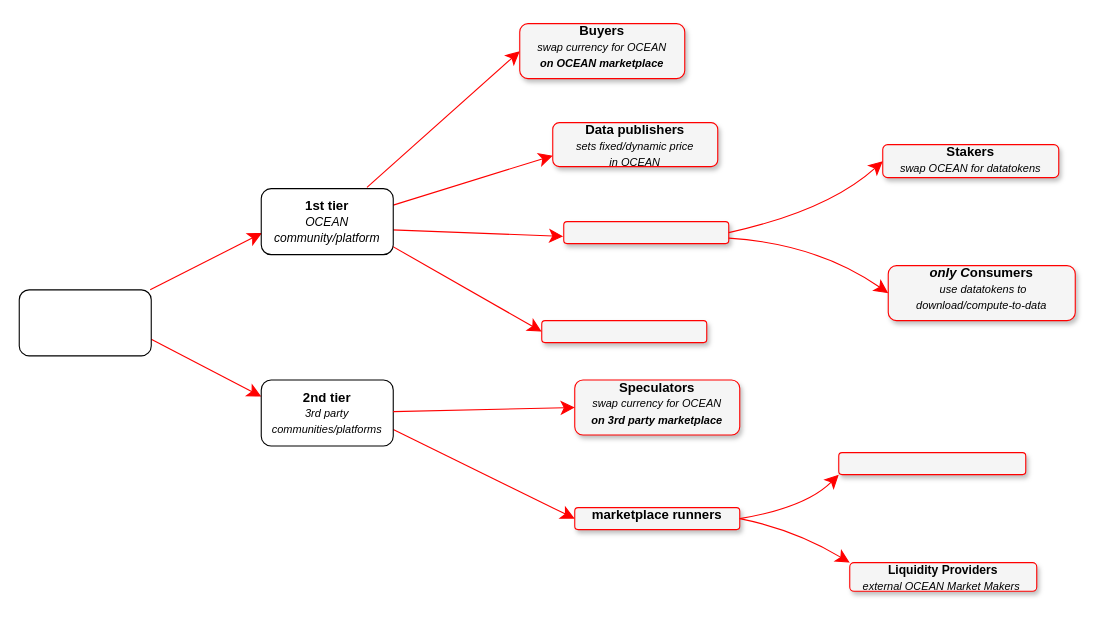
Some shapes in this 1101 by 618 pixel diagram are drawn without their labels. The shapes that lost their labels are listed below. From the top down, each one's centre as x and y in pixels, then its label:
At (646,233): "Data consumers".
At (84,322): "Actors/Agents".
At (624,332): "Broad community".
At (932,464): "developers".
